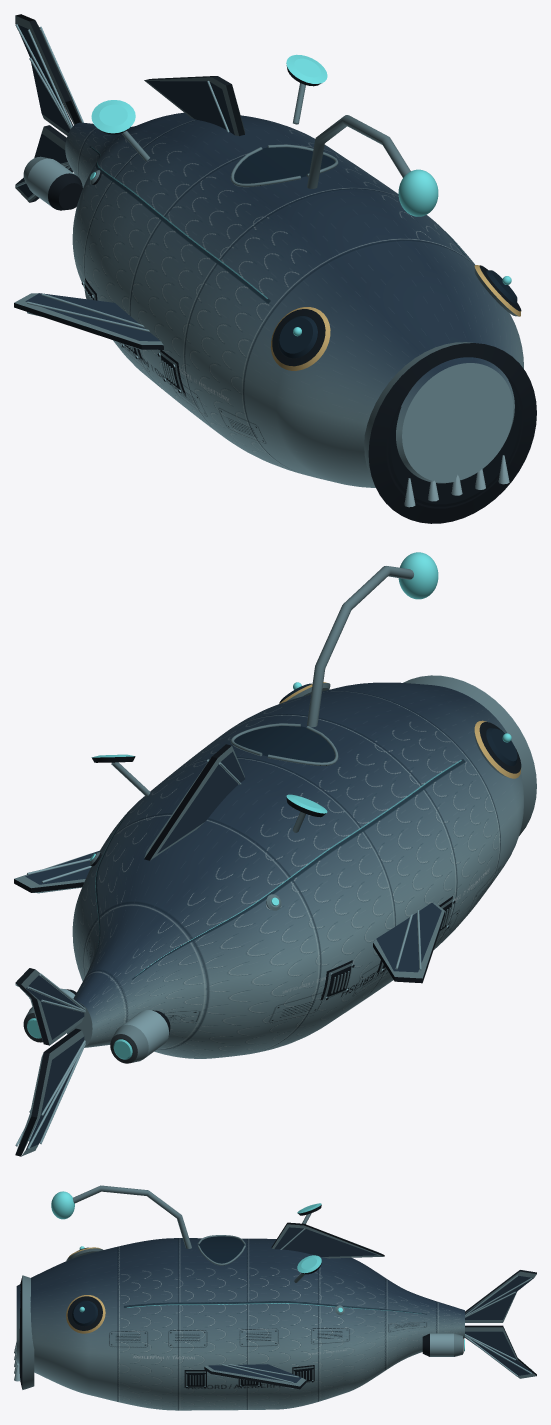
The model's file is ship.glb.
3 renders of one model, top to bottom at view 1: azimuth 30°, elevation 25°; view 2: azimuth 150°, elevation 25°; view 3: azimuth 270°, elevation 25°, orthographic. The views are drawn at different scales.
Parts seen in each view (by area): view 1: anglerfish_hull; view 2: anglerfish_hull; view 3: anglerfish_hull.
Boxes of the visible parts, x1=… form: anglerfish_hull: x1=14, y1=14, x2=536, y2=523; anglerfish_hull: x1=14, y1=552, x2=536, y2=1156; anglerfish_hull: x1=14, y1=1185, x2=536, y2=1410.
Bounding box in the file's own units: 9.08 × 7.72 × 17.
1 material, 1 textured.
